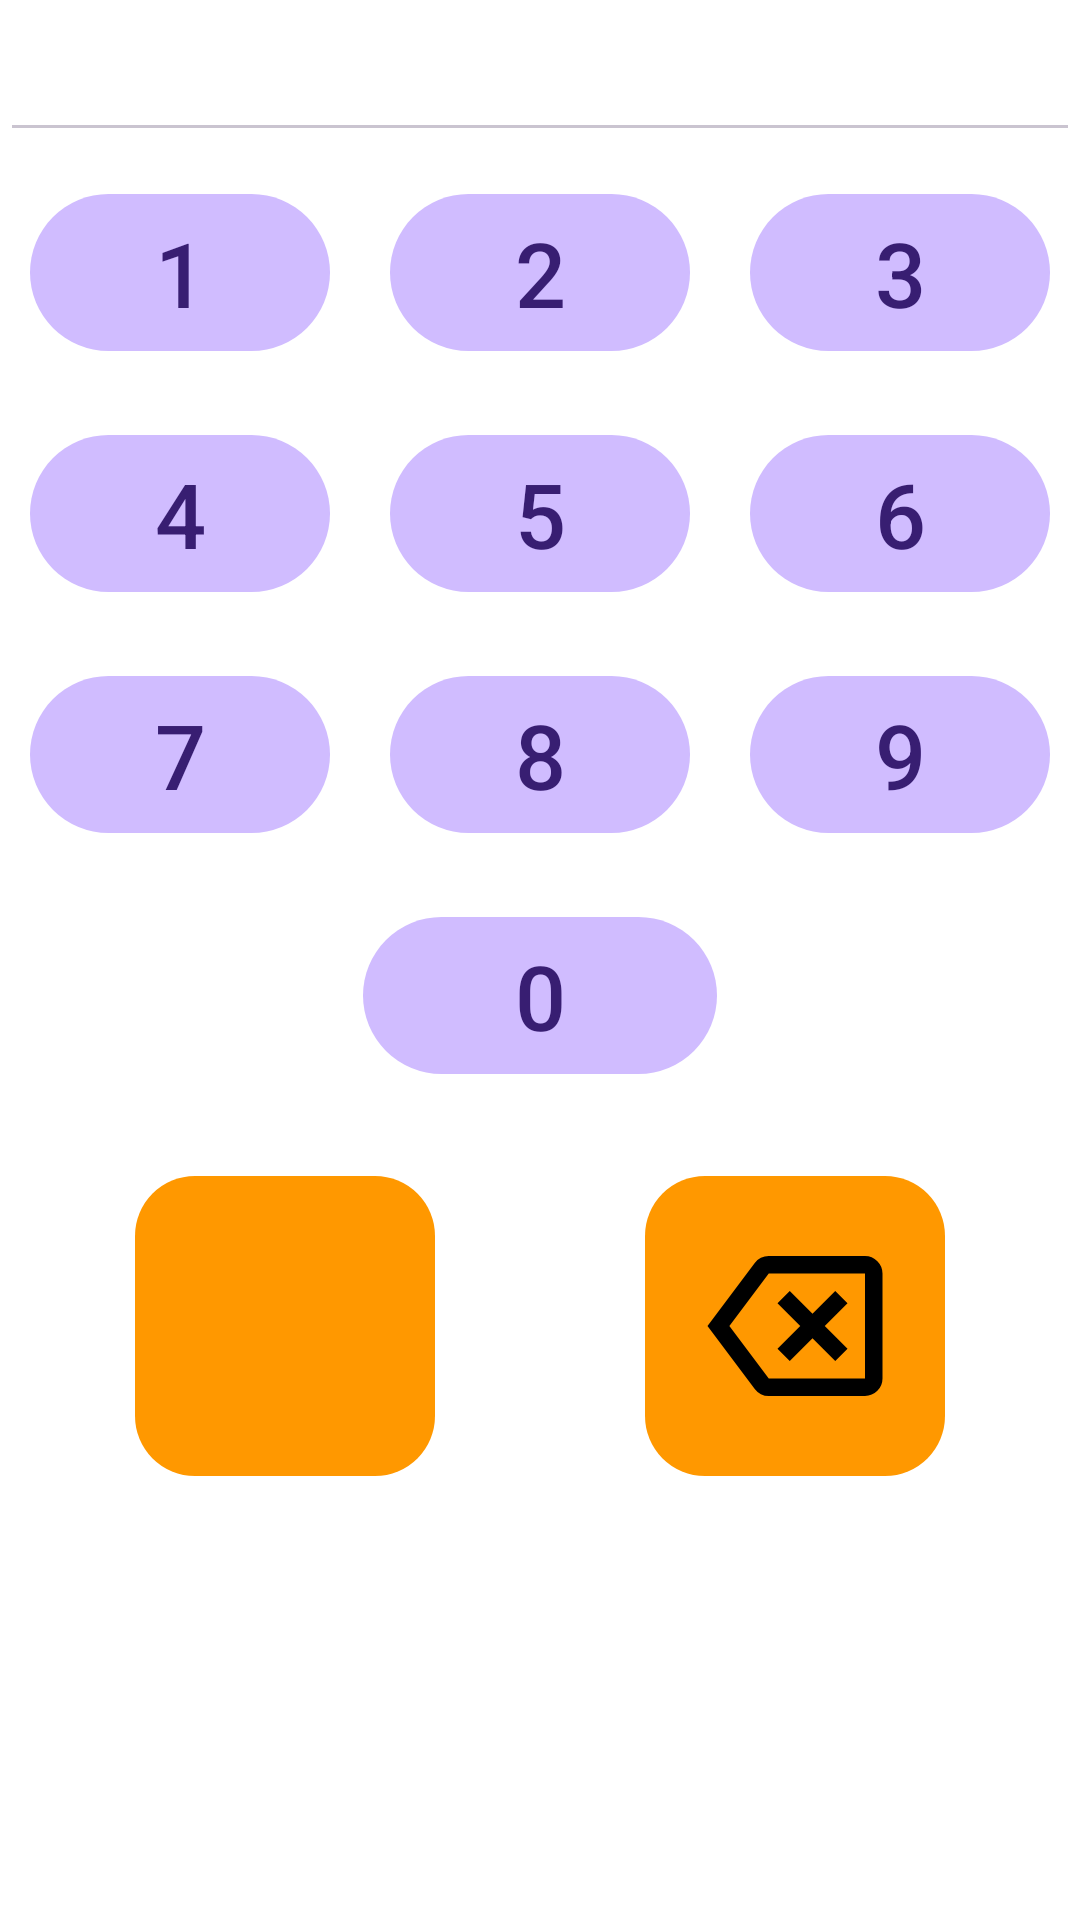

Where to tap for icons on this 1080w x 1920h app screen, as [x,y]:
backspace: [795,1326]
